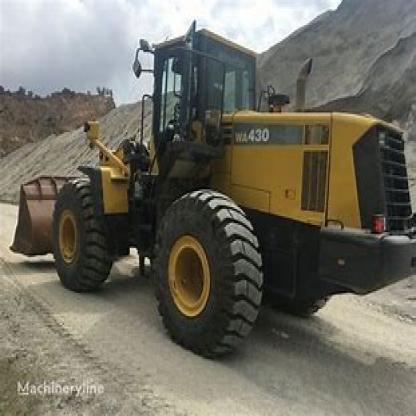bull_dozer/loader/grader: (1, 18, 415, 361)
